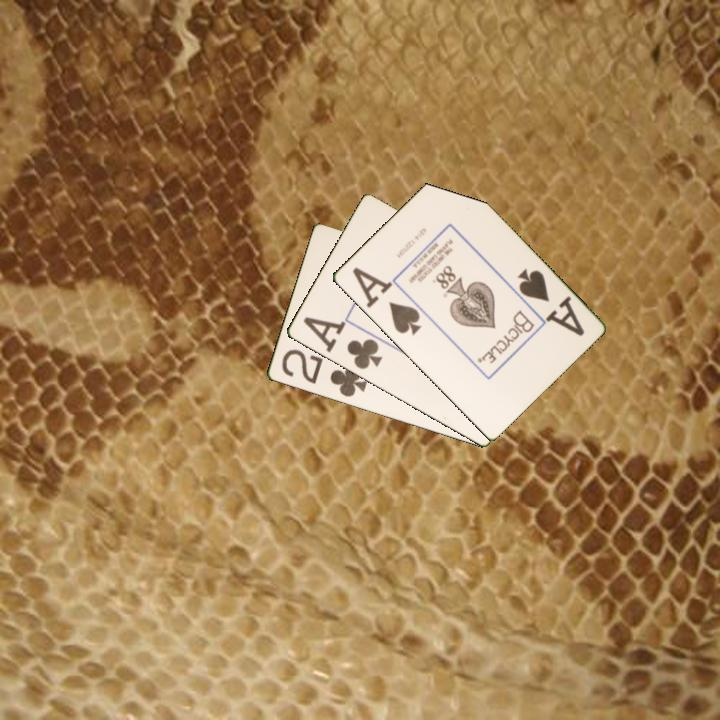2c: (278, 346, 369, 400)
Ac: (299, 313, 385, 372)
As: (513, 265, 587, 339), (356, 271, 423, 339)
